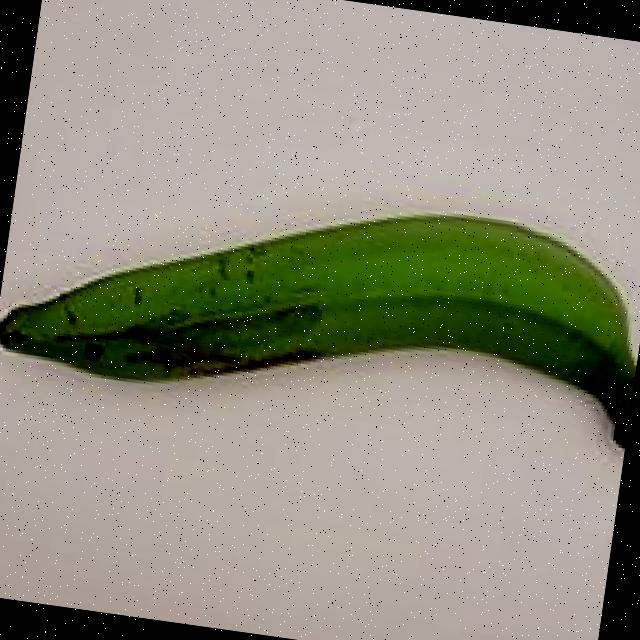Raw: (0, 117, 640, 526)
